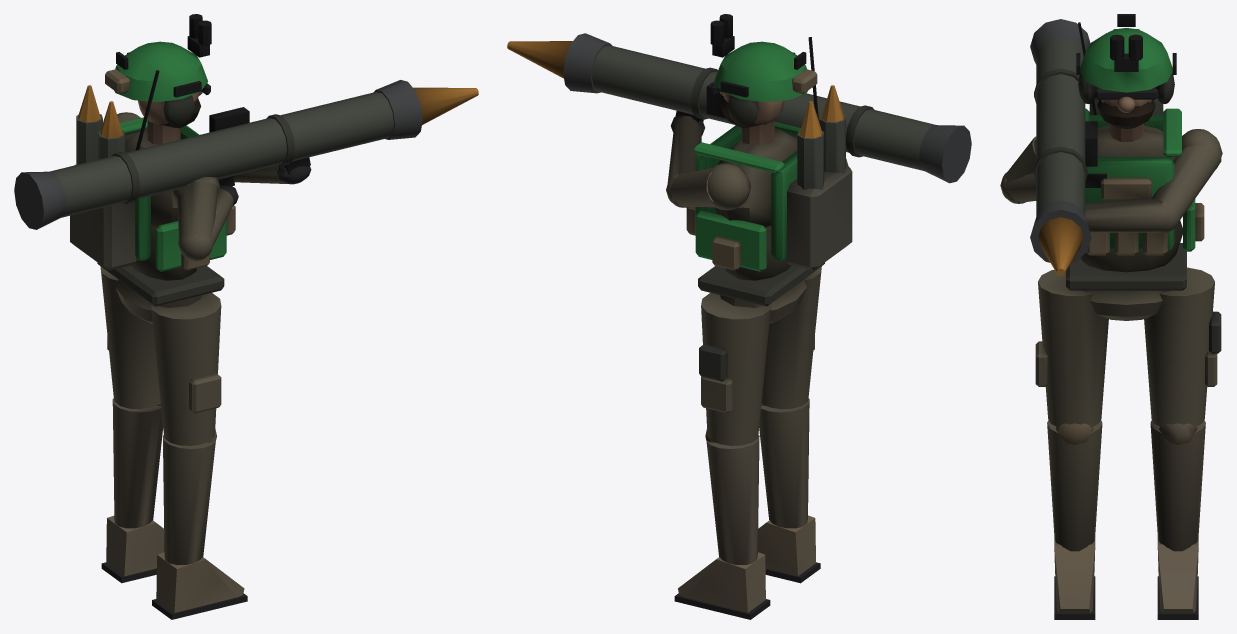
File: u_rocketeer.glb
3 renders of one model, left to right at view 1: azimuth 30°, elevation 25°; view 2: azimuth 150°, elevation 25°; view 3: azimuth 270°, elevation 25°, orthographic. The views are drawn at different scales.
Visible parts, largest first — view 1: Rocketeer_Walls, Rocketeer_Details, Rocketeer_shL, Rocketeer_shR, Rocketeer_thL, Rocketeer_thR; view 2: Rocketeer_Walls, Rocketeer_Details, Rocketeer_shR, Rocketeer_shL, Rocketeer_thR, Rocketeer_thL; view 3: Rocketeer_Walls, Rocketeer_Details, Rocketeer_shR, Rocketeer_shL, Rocketeer_thL, Rocketeer_thR.
Boxes of the visible parts, x1=… form: Rocketeer_Walls: x1=14, y1=36, x2=478, y2=323; Rocketeer_Details: x1=76, y1=14, x2=295, y2=413; Rocketeer_shL: x1=152, y1=429, x2=247, y2=619; Rocketeer_shR: x1=101, y1=398, x2=164, y2=583; Rocketeer_thL: x1=151, y1=292, x2=221, y2=445; Rocketeer_thR: x1=100, y1=266, x2=160, y2=409; Rocketeer_Walls: x1=507, y1=33, x2=971, y2=323; Rocketeer_Details: x1=686, y1=14, x2=874, y2=413; Rocketeer_shR: x1=674, y1=429, x2=770, y2=619; Rocketeer_shL: x1=758, y1=398, x2=820, y2=583; Rocketeer_thR: x1=701, y1=292, x2=771, y2=445; Rocketeer_thL: x1=761, y1=266, x2=821, y2=409; Rocketeer_Walls: x1=1000, y1=19, x2=1222, y2=320; Rocketeer_Details: x1=1034, y1=14, x2=1221, y2=386; Rocketeer_shR: x1=1150, y1=420, x2=1205, y2=619; Rocketeer_shL: x1=1047, y1=420, x2=1102, y2=619; Rocketeer_thL: x1=1038, y1=269, x2=1108, y2=427; Rocketeer_thR: x1=1144, y1=267, x2=1214, y2=427.
Bounding box in the file's own units: 0.52 × 0.62 × 0.2167.
